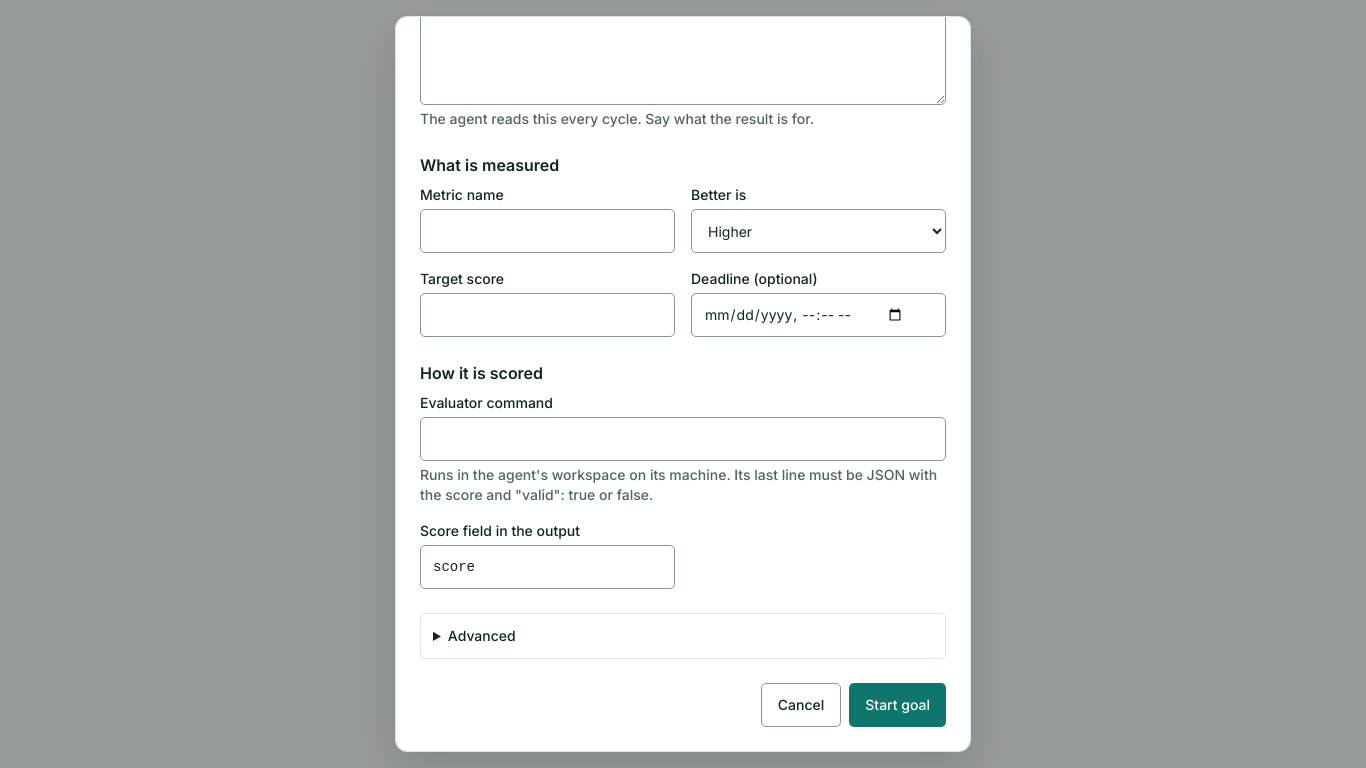
Test: CampaignForm › [CMP-01] shows field errors instead of submitting an incomplete campaign
(page scrolled)
Click the button "Start goal": x=898, y=705 [849,683,946,727]
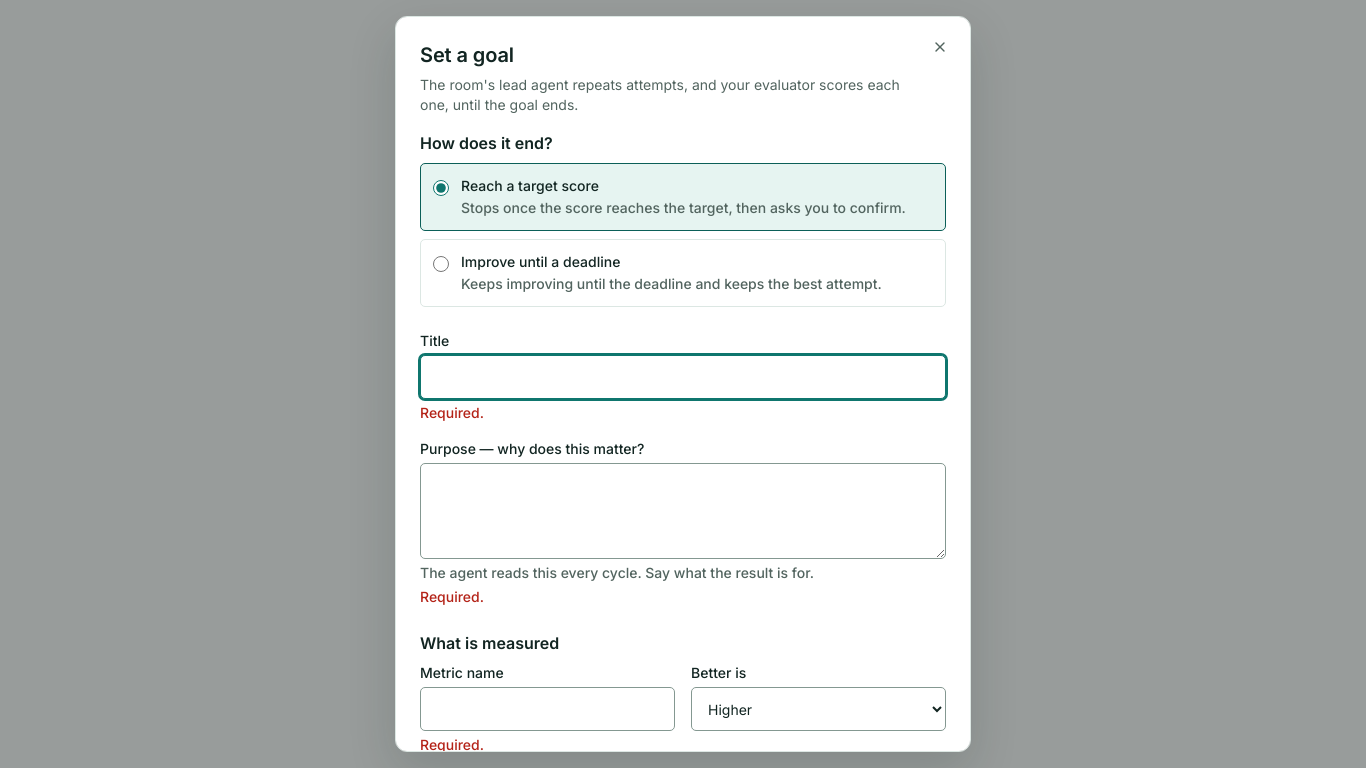
expect the text "Required." below "Title" is shown: met, box [420,404,484,421]
